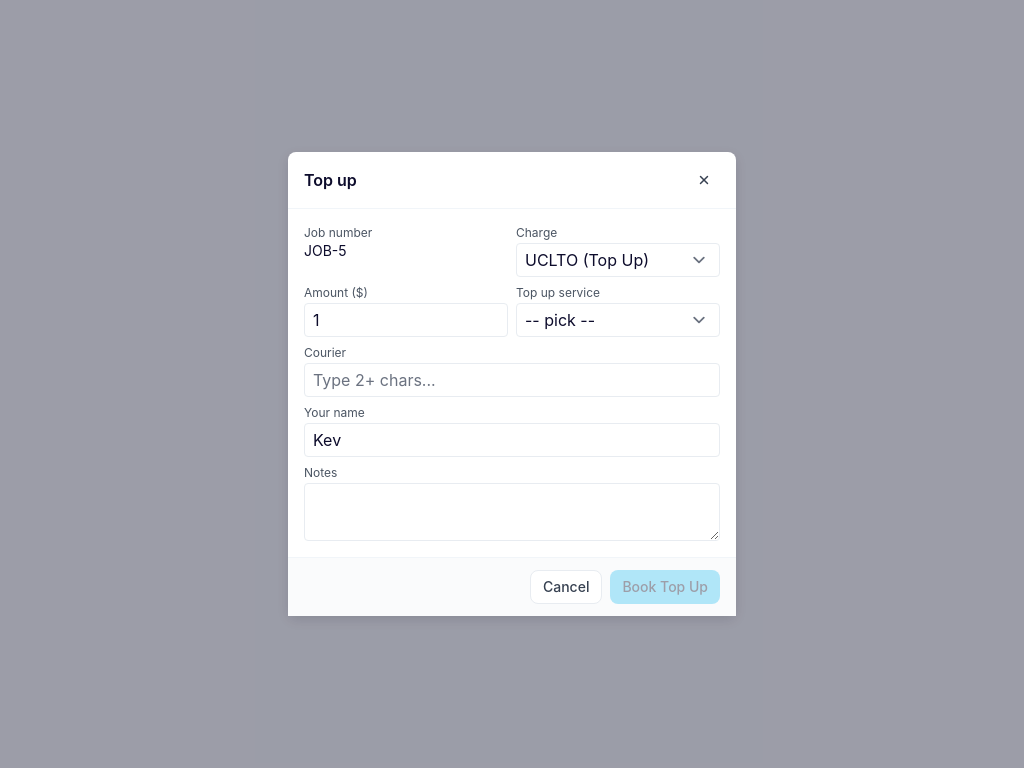
Test: TopUpDialog › searches couriers when 2+ chars typed
Type "ke" into the field with placeholder "Type 2+ chars...". click: (512, 380)
box: [304, 363, 720, 397]
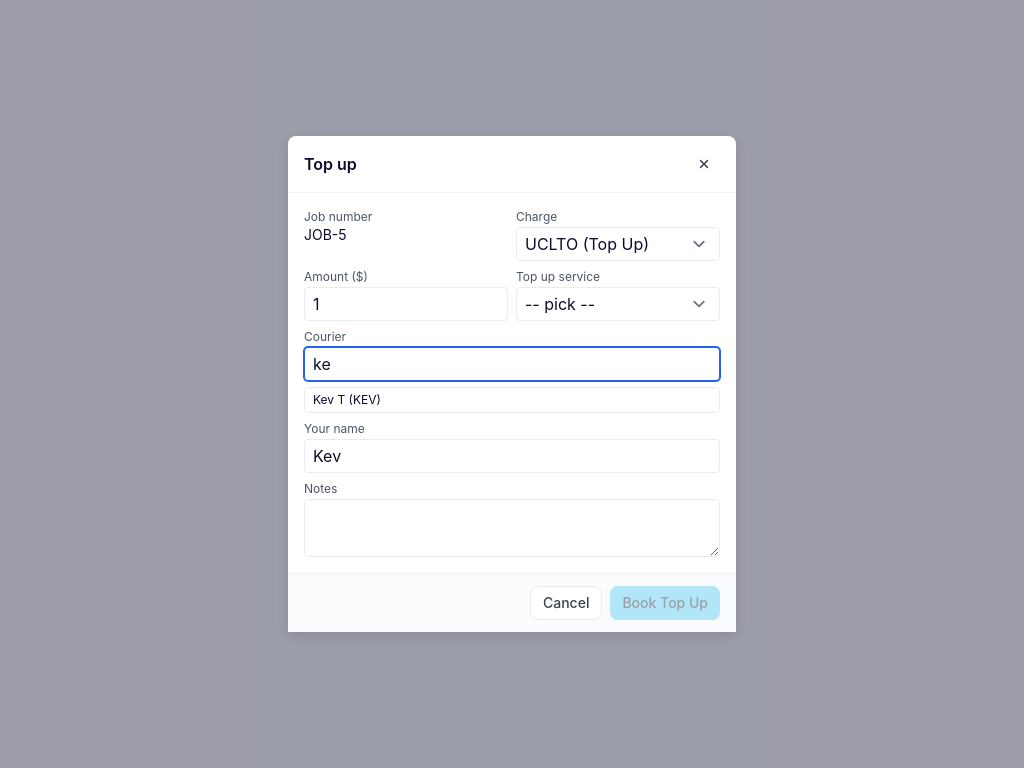
expect the button "Kev T (KEV)" is shown: met, box [305, 388, 719, 412]
